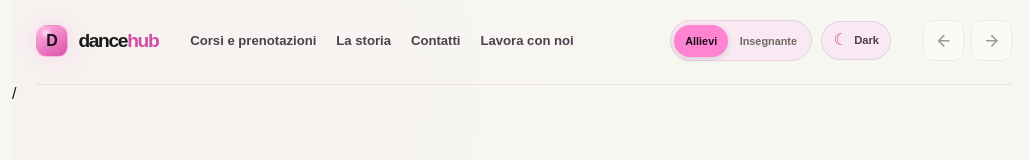
it: Navbar route history controls › navigates backward and forward through routes visited in the app
Expected: the button named "Torna alla pagina precedente" is disabled, [923,20,964,61]
Click the link "La storia" at (364, 40), box [336,33,391,48]
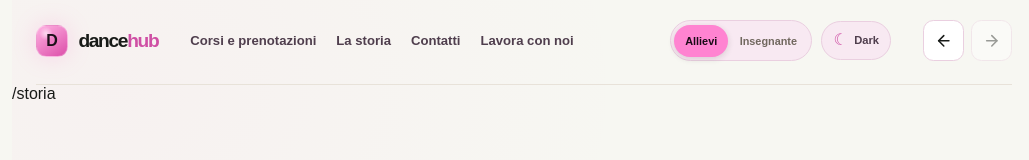
Now the text "/storia" is shown, box [12,85,56,102]
Now the button named "Torna alla pagina precedente" is enabled
Click the button named "Torna alla pagina precedente" at (944, 40), box [923,20,964,61]
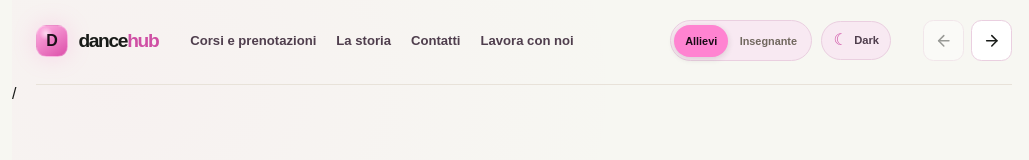
Expected: the text "/" is shown, [12,85,16,102]
Now the button named "Vai alla pagina successiva" is enabled
Click the button named "Vai alla pagina successiva" at (992, 40), box [971,20,1012,61]
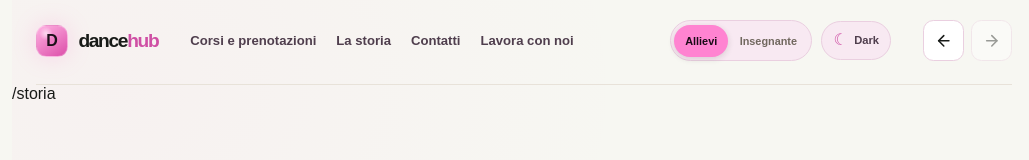
Now the text "/storia" is shown, box [12,85,56,102]
